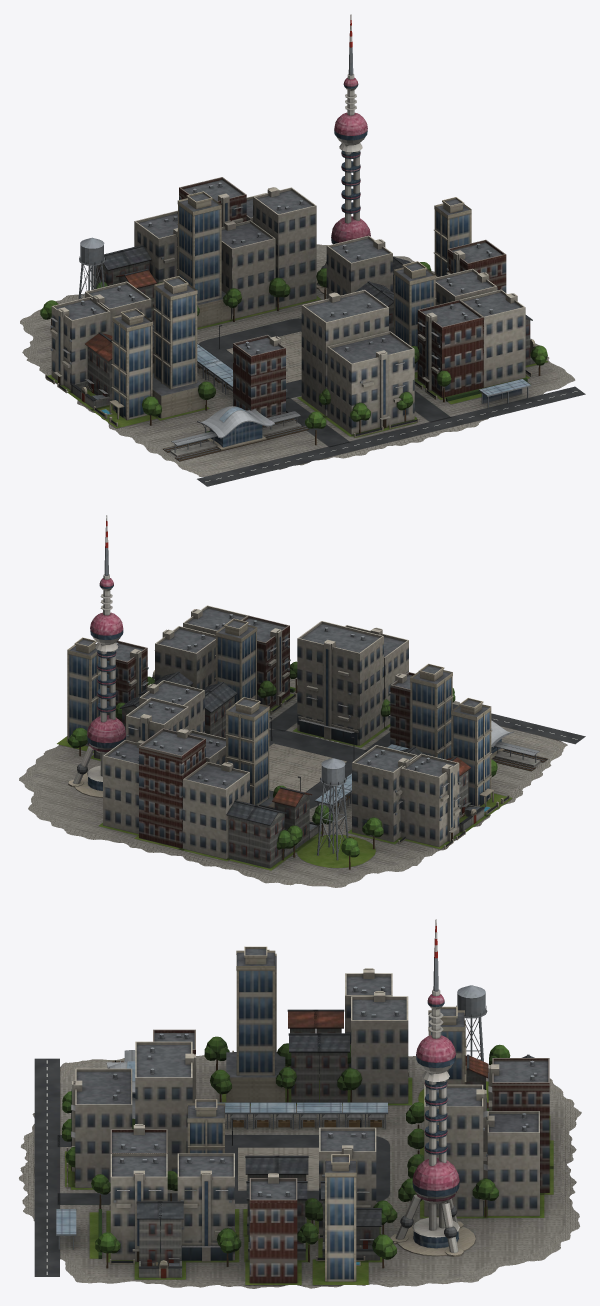
The model's file is modern-town-big-b-sinic.glb.
3 renders of one model, top to bottom at view 1: azimuth 30°, elevation 25°; view 2: azimuth 150°, elevation 25°; view 3: azimuth 270°, elevation 25°, orthographic. The views are drawn at different scales.
Parts seen in each view (by area): view 1: LOD0; view 2: LOD0; view 3: LOD0.
Part boxes in pixels (box(x1,y1,x2,y2)): LOD0: box(20, 14, 585, 486); LOD0: box(19, 515, 585, 887); LOD0: box(19, 919, 581, 1288).
Size of what is drawn, in the model's own units: 8.04 by 5.03 by 8.09.
Materials: 3 (3 with a texture image).
